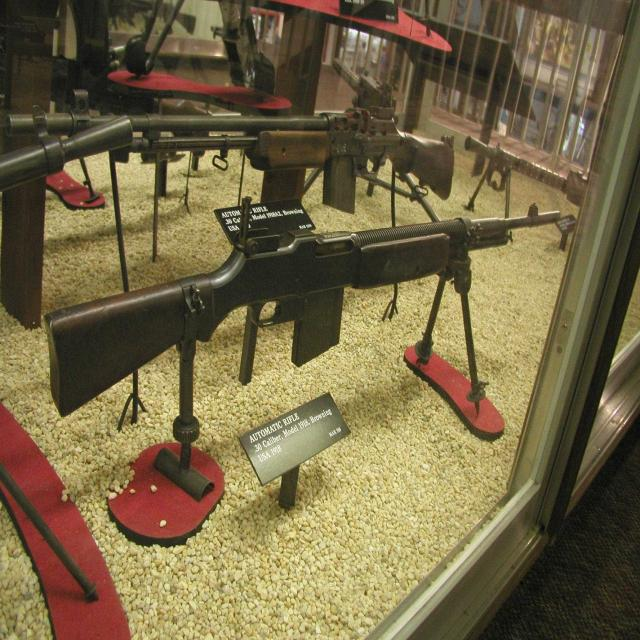heavyweapon: (38, 185, 577, 463)
